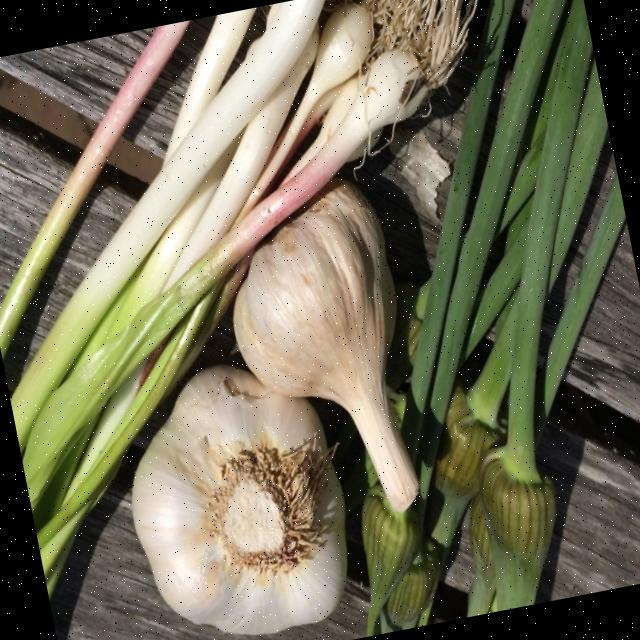garlic: (234, 183, 418, 511), (133, 366, 347, 635)
